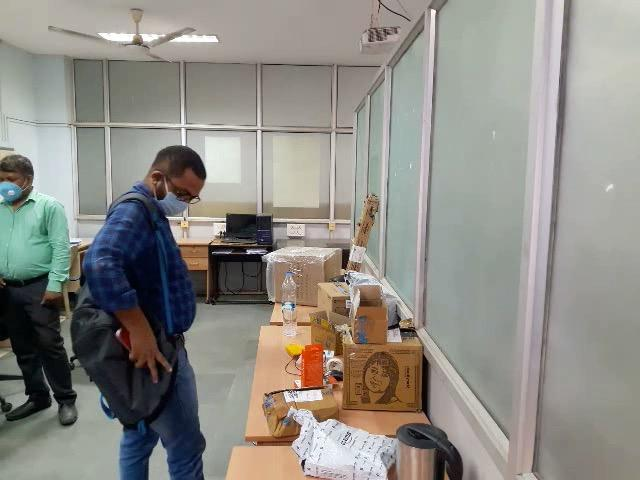shoplifting: (51, 252, 198, 455)
